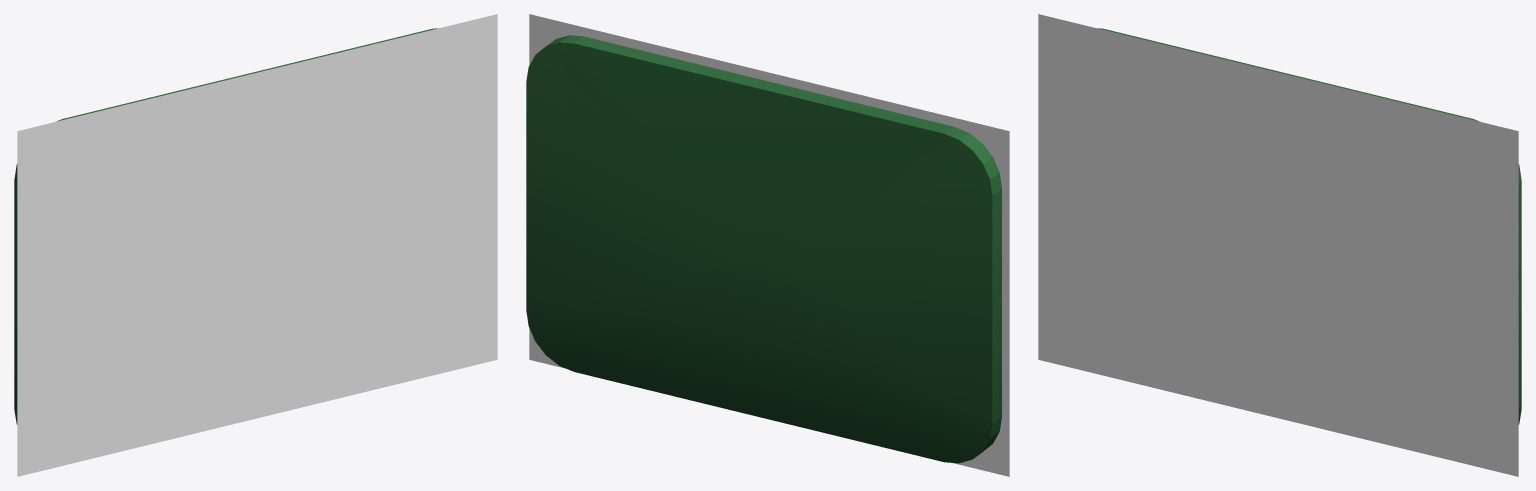
The model's file is furn_sign_displays.glb.
3 views of the same model, side by side, from view 1: azimuth 30°, elevation 25°; view 2: azimuth 150°, elevation 25°; view 3: azimuth 330°, elevation 25° (orthographic).
Parts seen in each view (by area): view 1: furn_sign_displays_pic, furn_sign_displays_main; view 2: furn_sign_displays_main, furn_sign_displays_pic; view 3: furn_sign_displays_pic, furn_sign_displays_main.
Boxes of the visible parts, box(x1,y1,x2,y2) form: furn_sign_displays_pic: box(17, 14, 497, 476); furn_sign_displays_main: box(14, 28, 437, 424); furn_sign_displays_main: box(526, 35, 1001, 463); furn_sign_displays_pic: box(529, 14, 1009, 476); furn_sign_displays_pic: box(1038, 14, 1518, 476); furn_sign_displays_main: box(1098, 28, 1521, 424).
Bounding box in the file's own units: 2 × 1.38 × 0.073.
